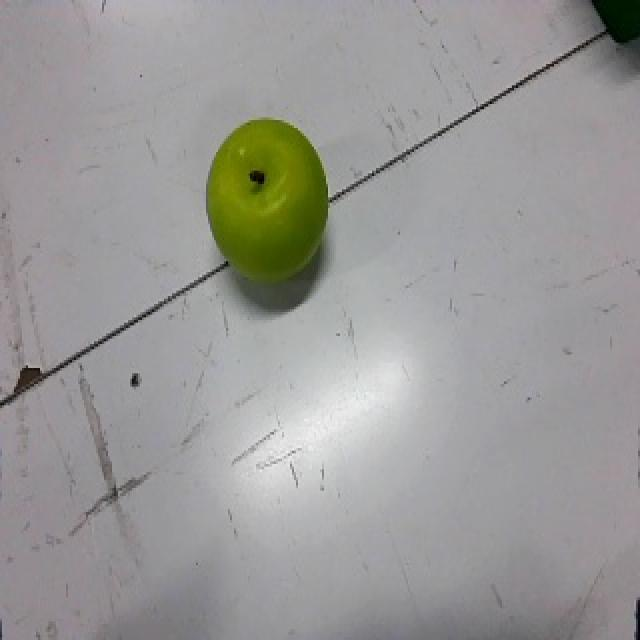apple: (204, 116, 336, 283)
